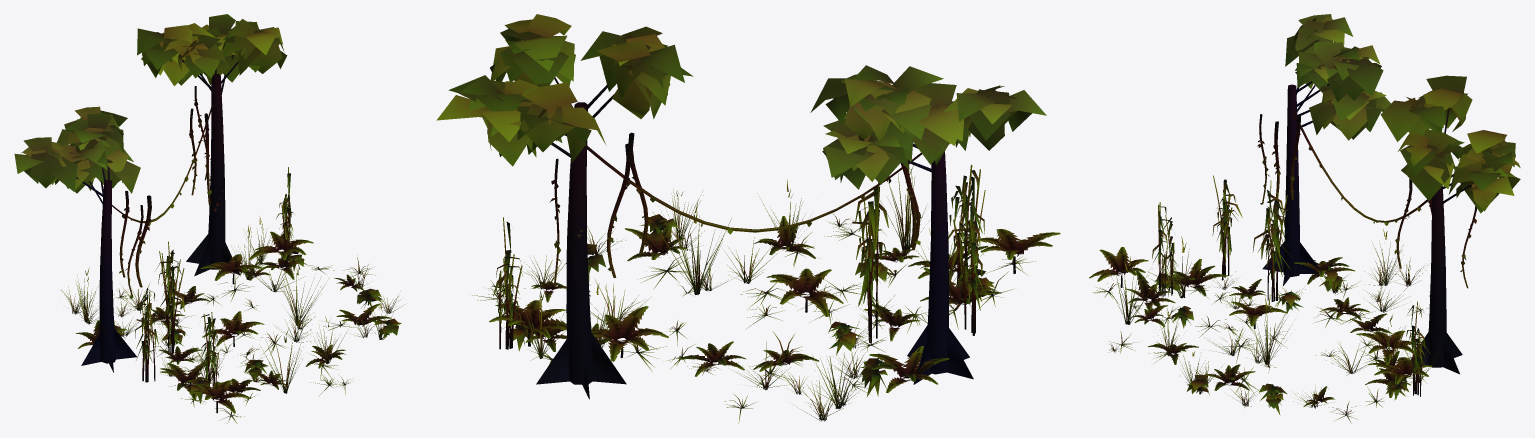
File: patch_scrub.glb
3 views of the same model, side by side, from view 1: azimuth 30°, elevation 25°; view 2: azimuth 150°, elevation 25°; view 3: azimuth 270°, elevation 25° (orthographic). The views are drawn at different scales.
Visible parts, largest first — view 1: patch_scrub; view 2: patch_scrub; view 3: patch_scrub.
Part boxes in pixels (box(x1,y1,x2,y2)): patch_scrub: box(14, 14, 403, 423); patch_scrub: box(436, 14, 1060, 423); patch_scrub: box(1089, 14, 1520, 423).
Bounding box in the file's own units: 19.89 × 12.81 × 18.75.
Materials: 1 (1 with a texture image).
